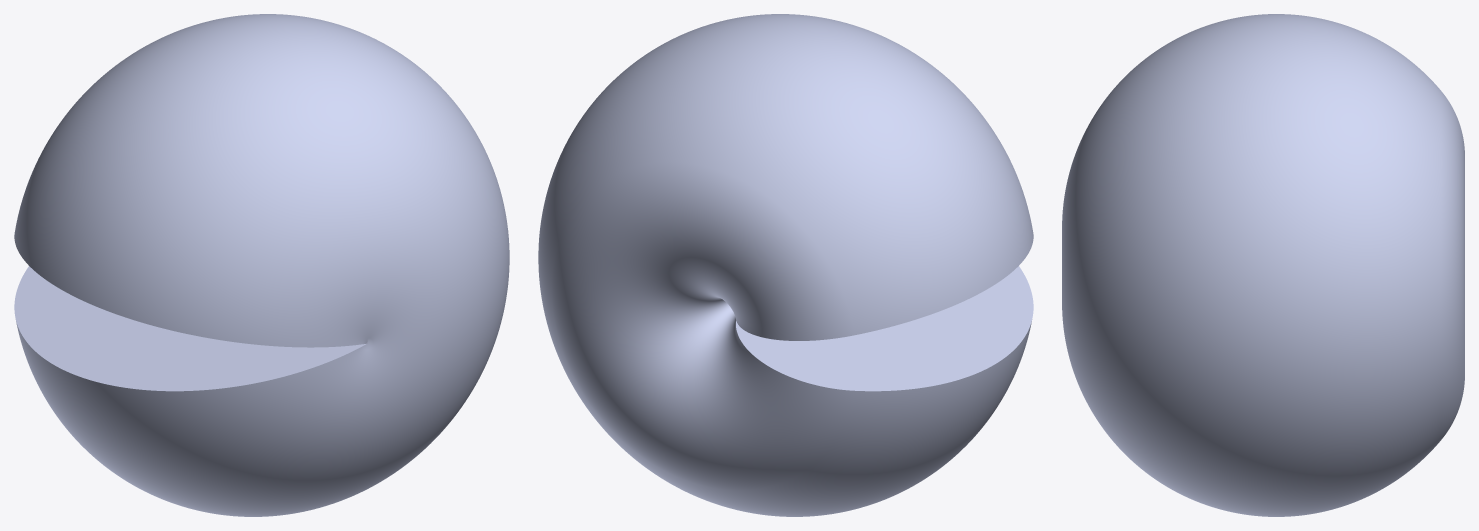
The model's file is balon.fbx.
3 renders of one model, left to right at view 1: azimuth 30°, elevation 25°; view 2: azimuth 150°, elevation 25°; view 3: azimuth 270°, elevation 25°, orthographic.
Visible parts, largest first — view 1: Revolve1; view 2: Revolve1; view 3: Revolve1.
Part boxes in pixels (left/top/right/bottom): Revolve1: left=14, top=14, right=509, bottom=516; Revolve1: left=538, top=14, right=1033, bottom=516; Revolve1: left=1062, top=14, right=1464, bottom=516.
Bounding box in the file's own units: 4330 × 4364 × 3496.
